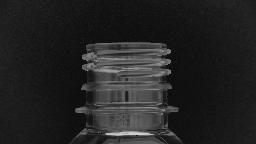No Cap: (66, 39, 184, 120)
